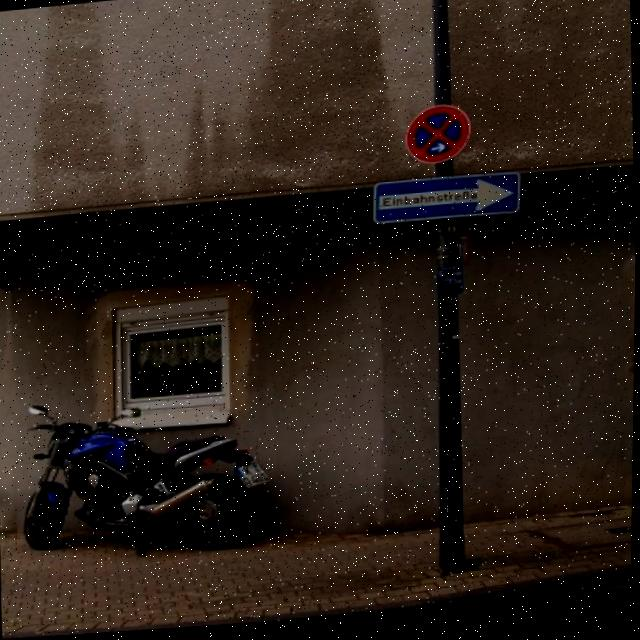motorcycle: (14, 374, 295, 580)
